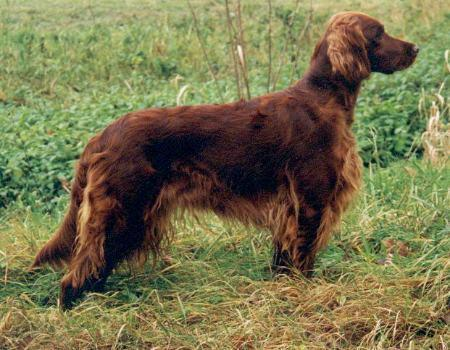Irish_setter: (29, 13, 420, 311)
